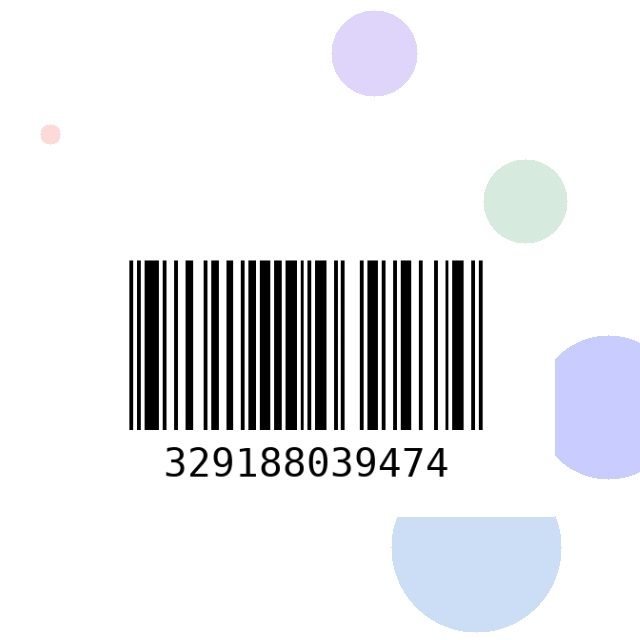barcode: (57, 250, 555, 517)
